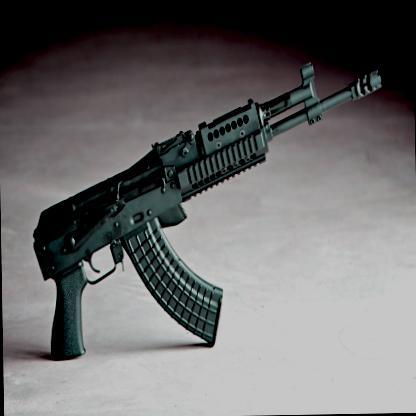rifle: (19, 38, 396, 372)
